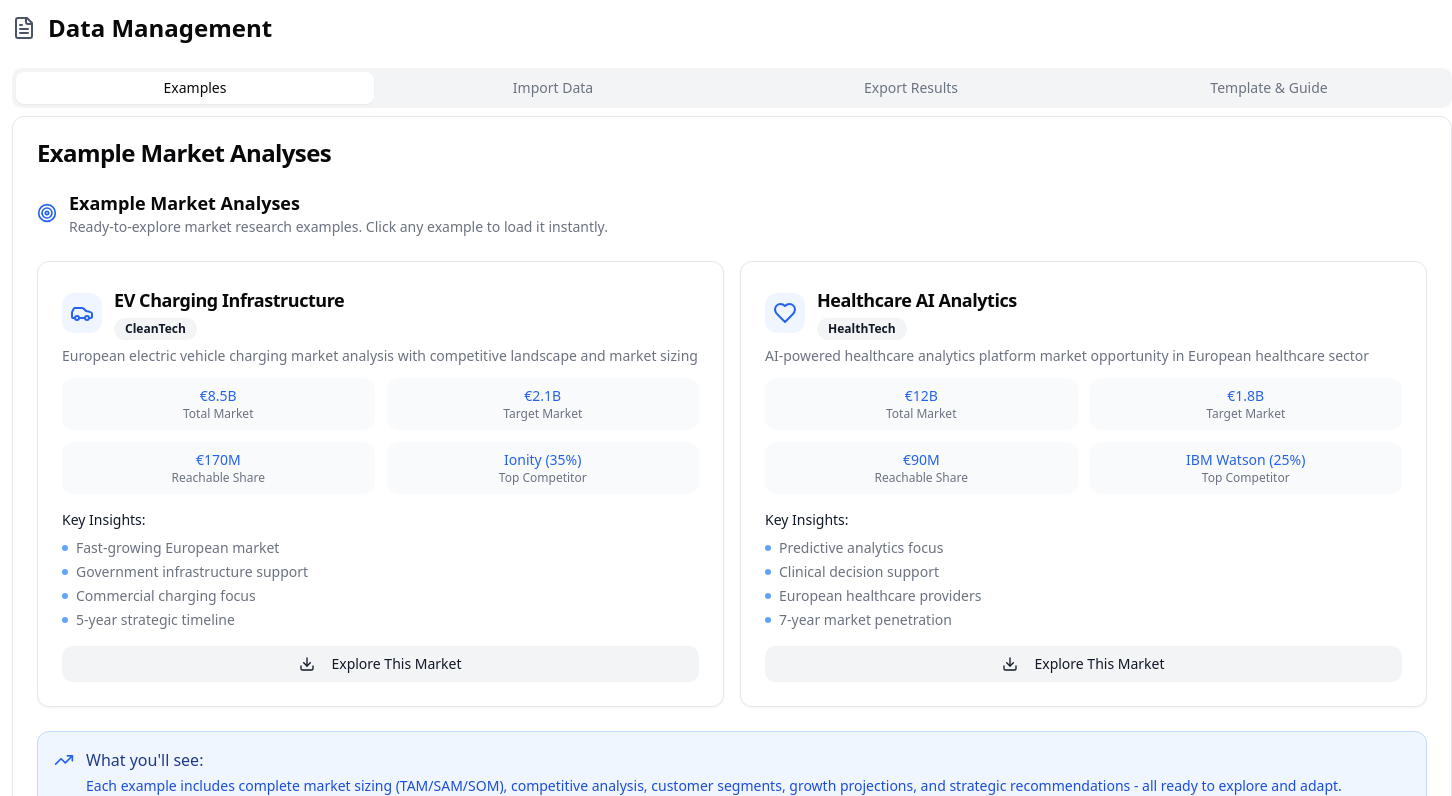
Test case: DataManagementModule - Copy Template Functionality › provides helpful guidance for AI workflow
This screenshot has width=1452, height=796.
// Navigate to template tab
What coordinates should you click on to do the following:
click the tab "Template & Guide"
I would click on:
 (1269, 88)
Its box is x1=1090 y1=72 x2=1448 y2=104.
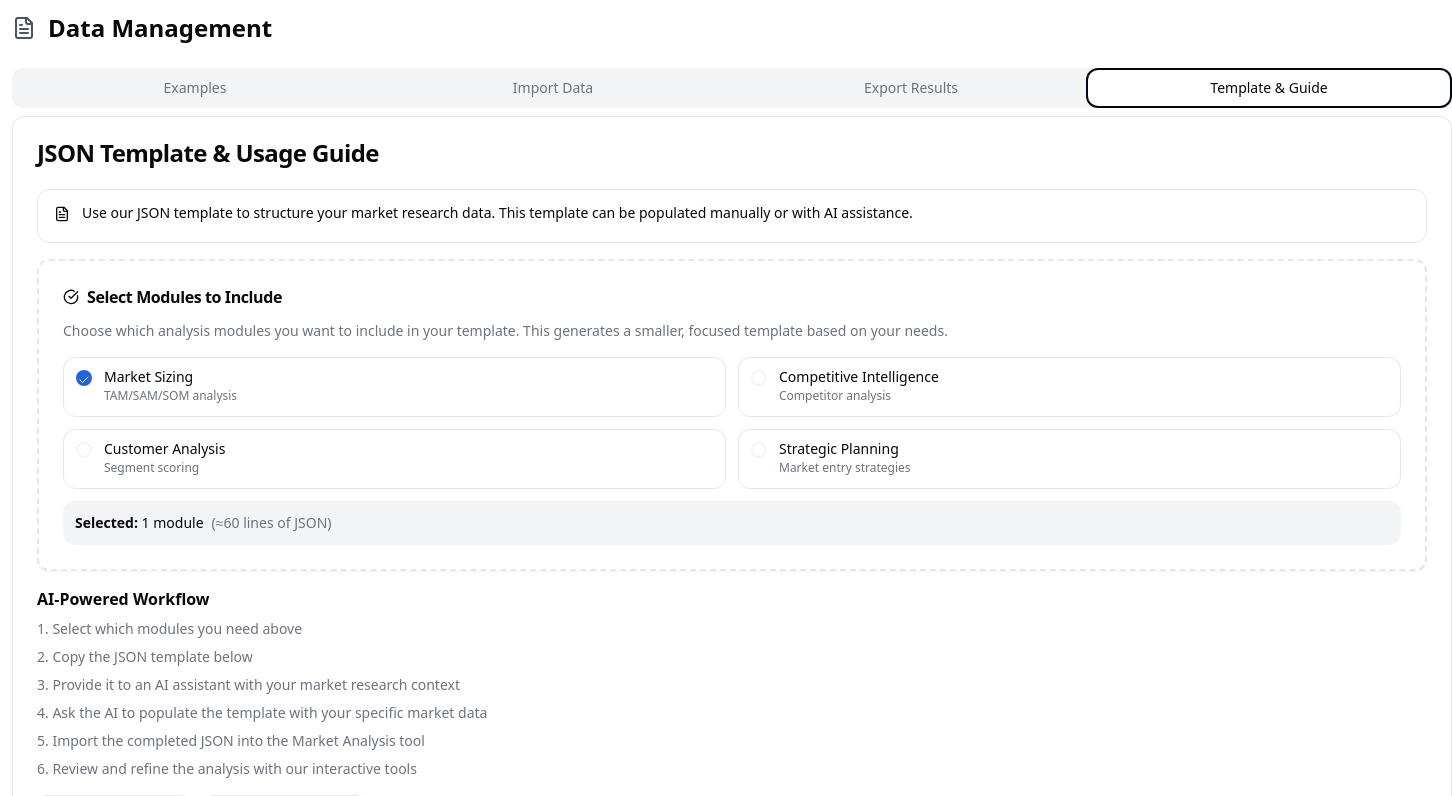
Check: the heading "AI-Powered Workflow" is shown, box x1=37 y1=588 x2=210 y2=610
Check: the list item "Copy the JSON template below" is shown, box x1=52 y1=647 x2=253 y2=666
Check: the list item "Ask the AI to populate the template" is shown, box x1=52 y1=703 x2=487 y2=722
